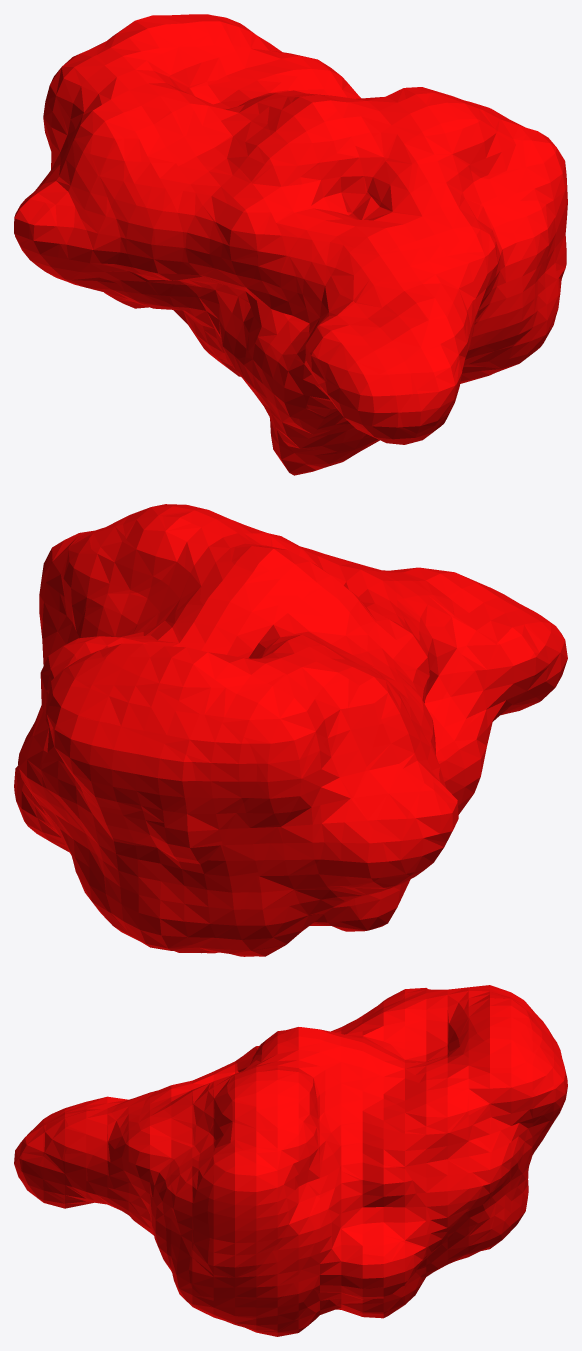
The model's file is ubiF_coarse.dae.
The picture shows the model from 3 angles, top to bottom: view 1: azimuth 30°, elevation 25°; view 2: azimuth 150°, elevation 25°; view 3: azimuth 270°, elevation 25°; orthographic projection. The views are drawn at different scales.
Visible parts, largest first — view 1: ubiF; view 2: ubiF; view 3: ubiF.
Part boxes in pixels (x1,y1,x2,y2): ubiF: [14, 14, 567, 475]; ubiF: [14, 504, 567, 956]; ubiF: [14, 985, 567, 1336].
Size of the model in its own units: 64.75 by 47.39 by 80.72.
